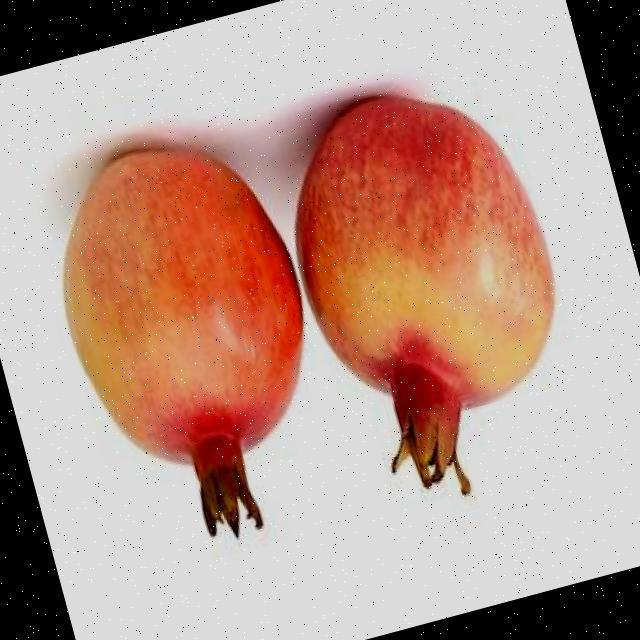Pomegranate: (258, 60, 608, 529), (24, 115, 359, 572)
